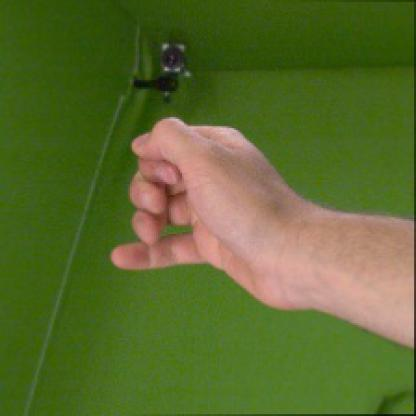Hand: (111, 117, 306, 311)
